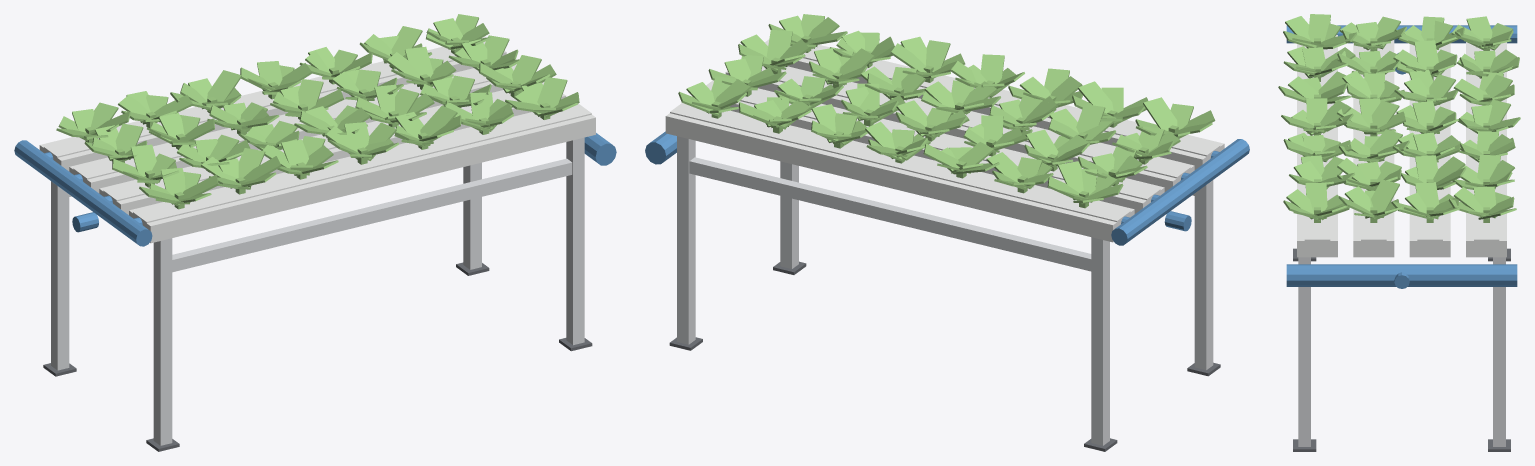
File: vertical-farm-and-hydroponics-tower-vertical-farm-and--b26a52d9__38343.glb
3 renders of one model, left to right at view 1: azimuth 30°, elevation 25°; view 2: azimuth 150°, elevation 25°; view 3: azimuth 270°, elevation 25°, orthographic. The views are drawn at different scales.
Visible parts, largest first — view 1: vertical-farm-and-hydroponics-tower-nutrient-film-channel-ru (×5); view 2: vertical-farm-and-hydroponics-tower-nutrient-film-channel-ru (×5); view 3: vertical-farm-and-hydroponics-tower-nutrient-film-channel-ru (×5).
Boxes of the visible parts, left/top/right/bottom form: vertical-farm-and-hydroponics-tower-nutrient-film-channel-ru (×5): left=14, top=14, right=616, bottom=451; vertical-farm-and-hydroponics-tower-nutrient-film-channel-ru (×5): left=645, top=14, right=1249, bottom=451; vertical-farm-and-hydroponics-tower-nutrient-film-channel-ru (×5): left=1278, top=14, right=1520, bottom=451.
Bounding box in the file's own units: 2.06 × 1.04 × 0.9465.
